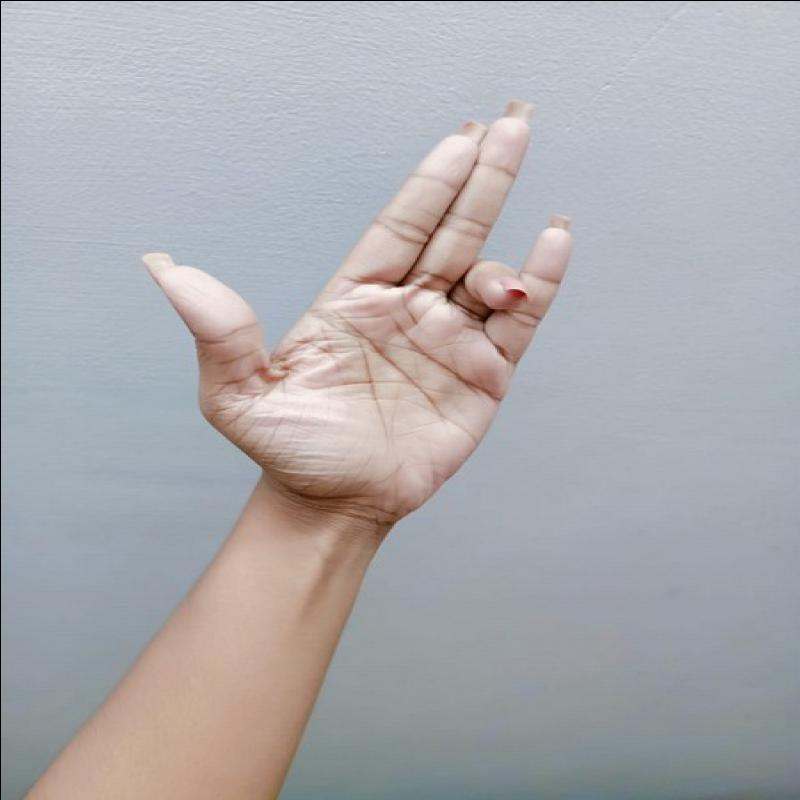Pathaaka: (134, 94, 589, 532)
